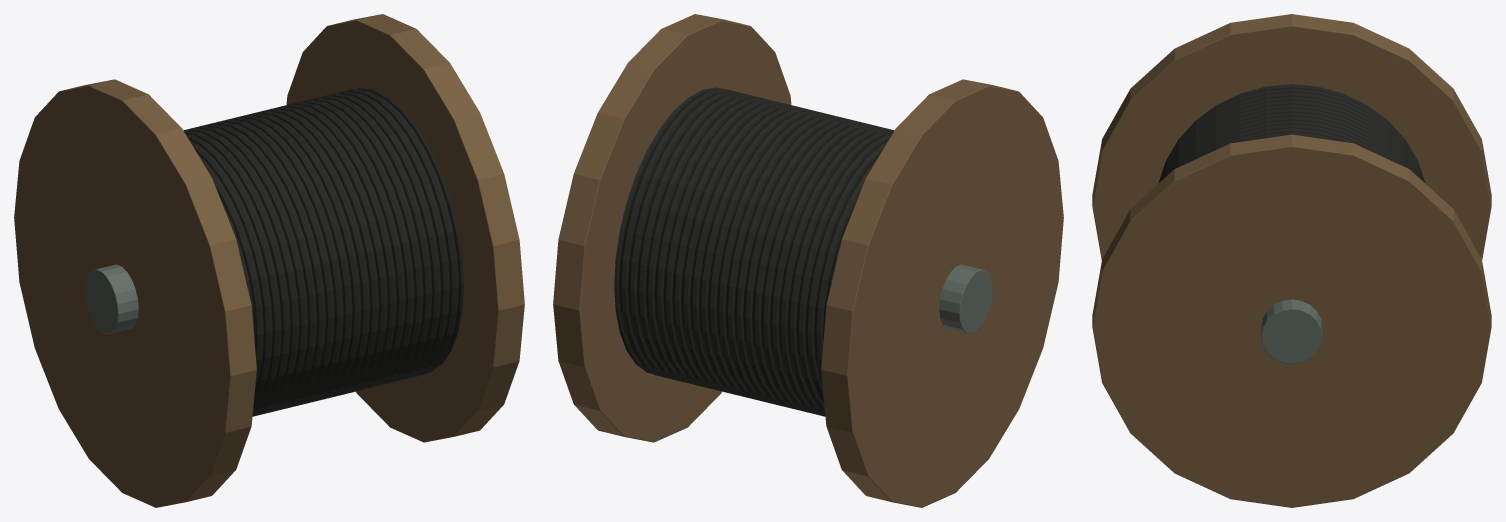
File: CableReel.fbx
3 renders of one model, left to right at view 1: azimuth 30°, elevation 25°; view 2: azimuth 150°, elevation 25°; view 3: azimuth 270°, elevation 25°, orthographic. The views are drawn at different scales.
Visible parts, largest first — view 1: CableReel; view 2: CableReel; view 3: CableReel.
Boxes of the visible parts, box(x1,y1,x2,y2) form: CableReel: box(14, 14, 524, 507); CableReel: box(553, 14, 1063, 507); CableReel: box(1092, 14, 1491, 507).
Bounding box in the file's own units: 163 × 182 × 182.
